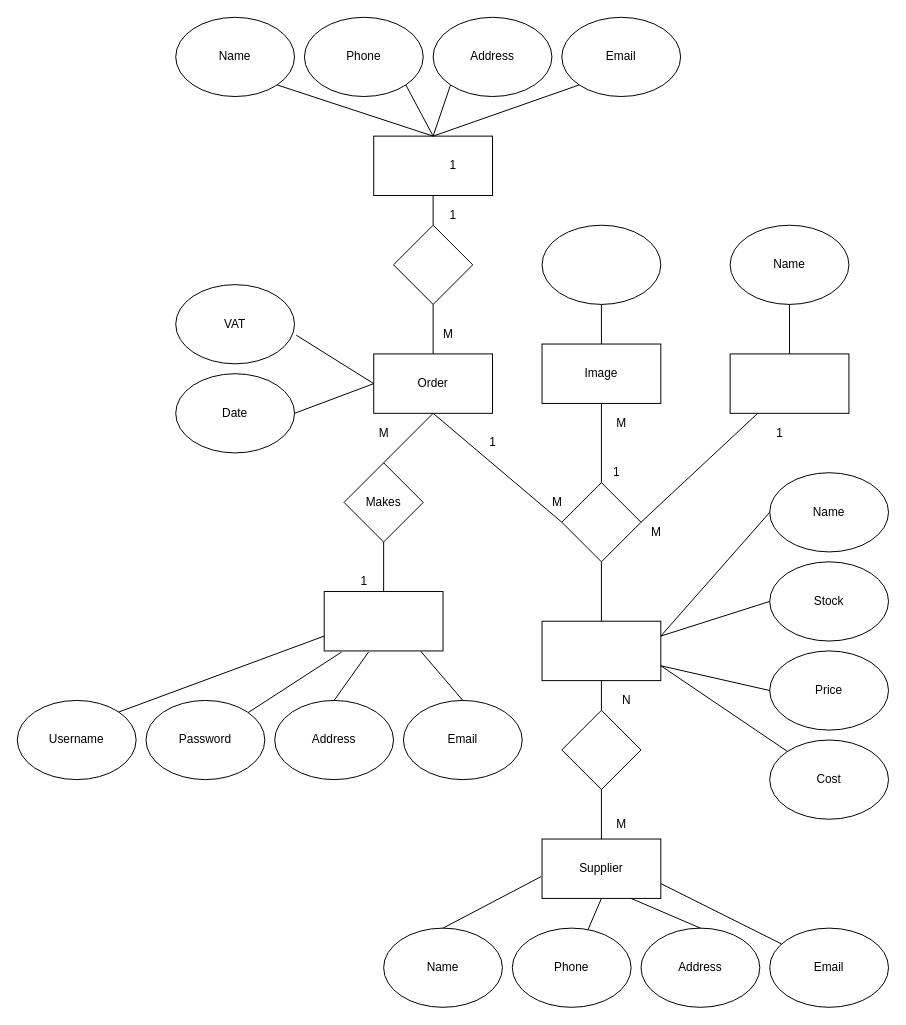
The diagram is 906 pixels wide and 1025 high, and some of its shapes have lost their labels. Each missing label, with the box of its shape:
Category: (729, 353, 849, 413)
Courrier: (373, 135, 493, 196)
Delivers: (393, 224, 473, 304)
Has: (561, 482, 641, 562)
Image Location: (541, 224, 661, 304)
Product: (541, 620, 661, 681)
Supplies: (561, 709, 641, 790)
User: (323, 591, 443, 651)
